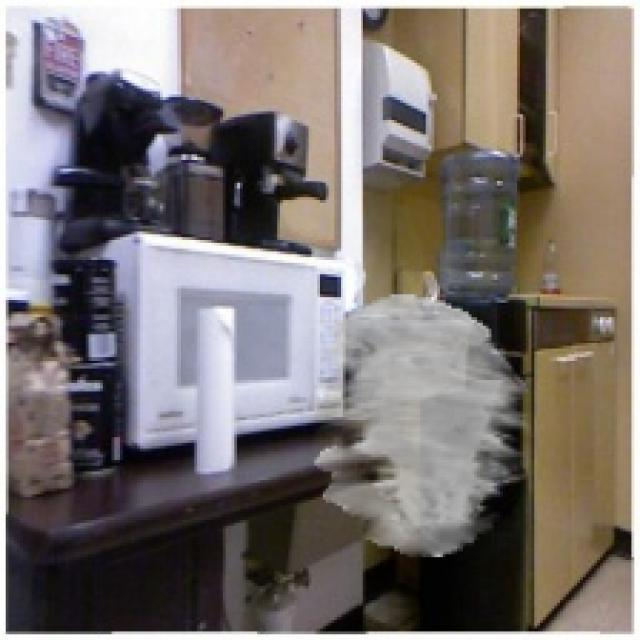Smoke: (314, 294, 532, 557)
